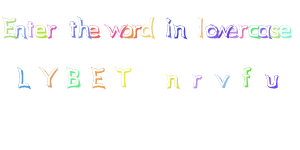B: (64, 63, 82, 92)
E: (89, 64, 111, 91), (3, 17, 16, 42)
L: (11, 63, 34, 93)
T: (113, 63, 134, 91)
Y: (38, 63, 61, 89)
a: (257, 20, 272, 44)
c: (247, 21, 259, 41)
d: (140, 13, 160, 41)
e: (88, 19, 101, 42), (281, 21, 295, 42), (227, 21, 240, 42), (34, 24, 47, 41)
f: (234, 65, 257, 90)
h: (76, 13, 90, 43)
i: (164, 15, 173, 40)
l: (197, 13, 208, 42)
n: (162, 69, 186, 95), (173, 22, 189, 43), (14, 22, 26, 41)
o: (121, 21, 134, 41), (206, 21, 218, 42)
r: (191, 66, 204, 91), (47, 22, 61, 41), (132, 20, 143, 41), (236, 21, 247, 38)
s: (270, 24, 281, 39)
t: (67, 19, 77, 39), (26, 19, 36, 37)
u: (263, 71, 287, 95)
v: (210, 70, 233, 93)
w: (102, 22, 123, 43), (215, 23, 229, 41)
